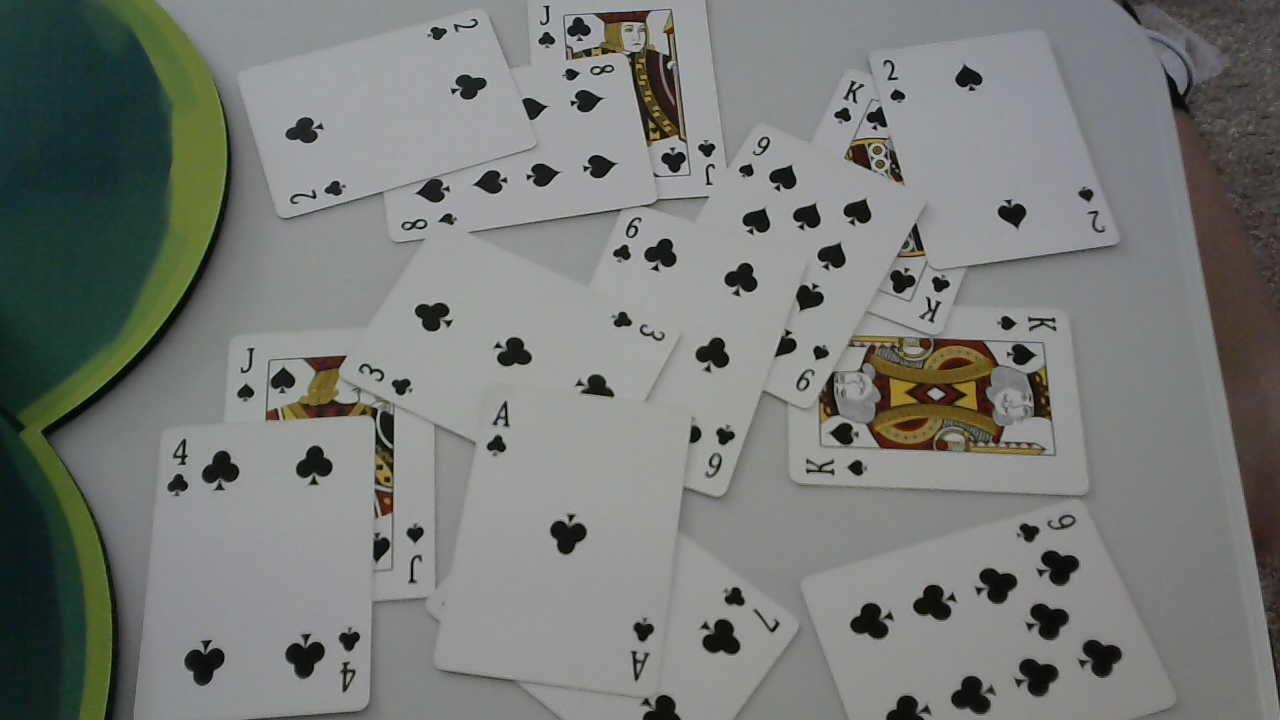2C: (288, 176, 352, 208), (423, 15, 480, 42)
2S: (1075, 181, 1110, 235), (880, 55, 910, 107)
3C: (354, 358, 417, 398), (607, 308, 668, 342)
4C: (164, 436, 190, 499), (336, 624, 359, 693)
6C: (702, 420, 742, 479), (609, 212, 645, 266)
7C: (719, 582, 783, 634)
8S: (557, 61, 617, 84)
9C: (1014, 509, 1080, 542)
9S: (793, 342, 836, 395), (737, 133, 772, 182)
AC: (625, 615, 657, 683), (485, 397, 516, 459)
JC: (534, 1, 558, 52), (697, 137, 718, 191)
JS: (402, 519, 426, 588), (234, 344, 257, 405)
KC: (916, 271, 953, 323), (831, 76, 866, 127)
KS: (803, 455, 873, 478), (996, 311, 1061, 332)
